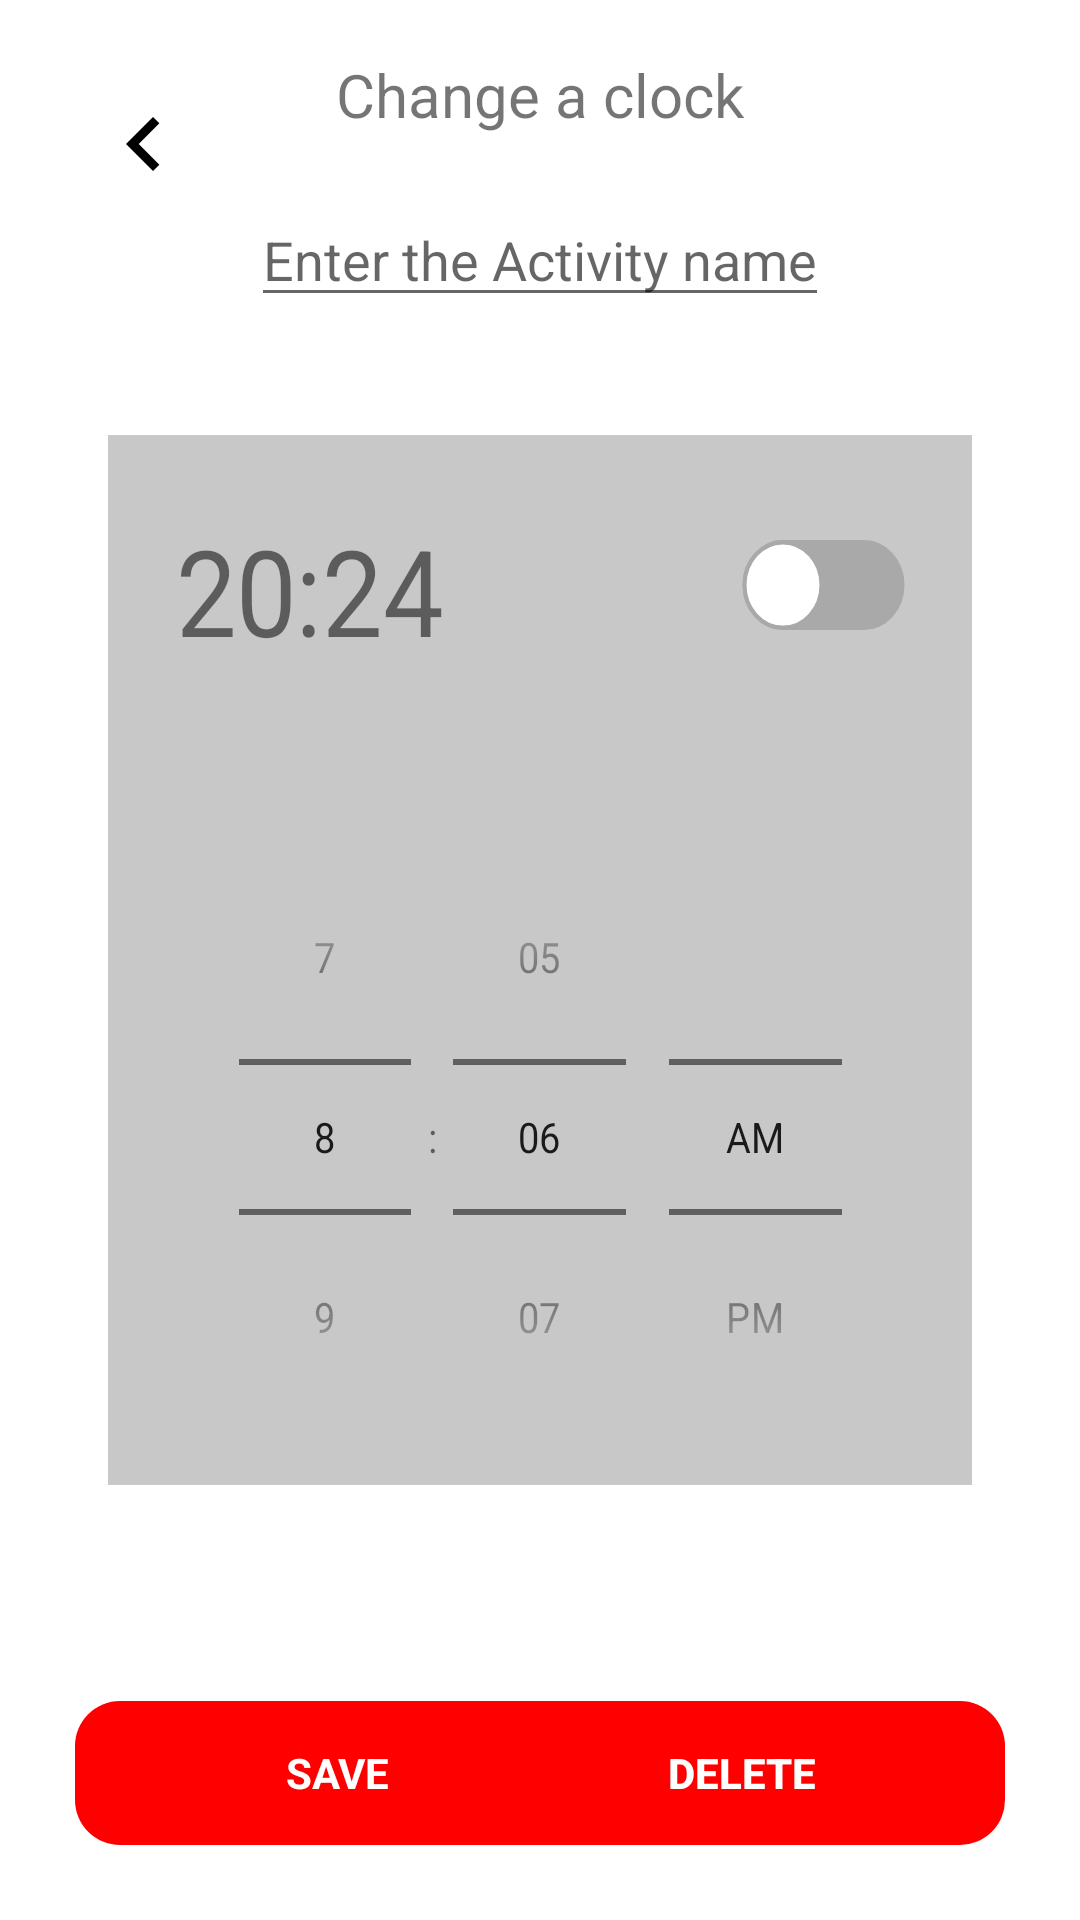

Screen size 1080px x 1920px. Icon name, then its box in pixels as (x1, y1, x2, y2):
left: (126, 117, 160, 171)
